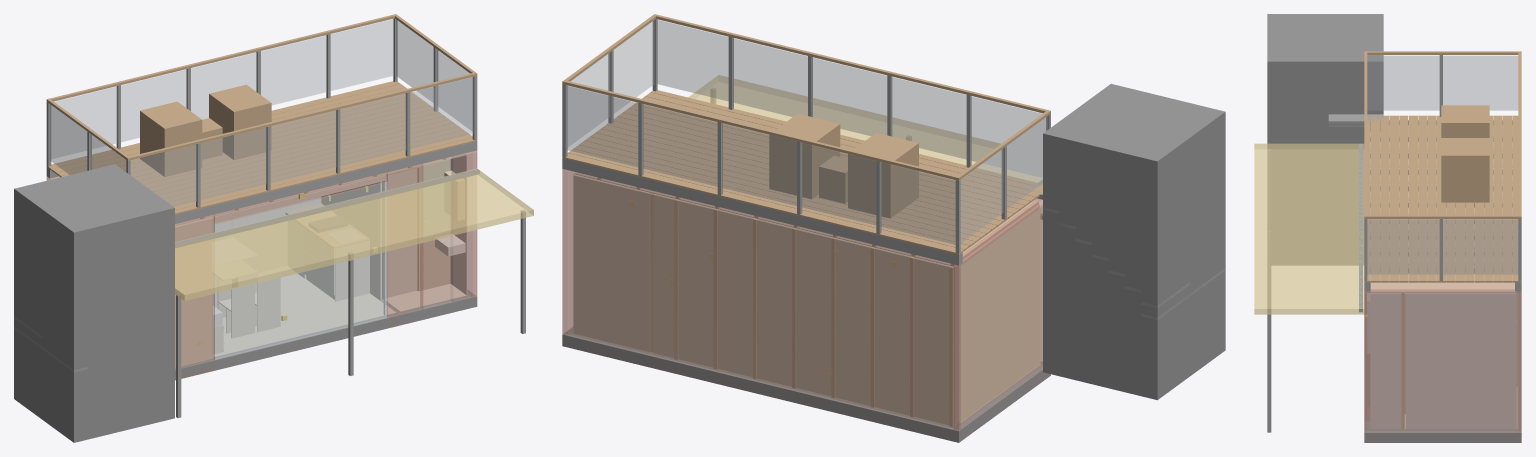
Rendered from studio.glb.
3 renders of one model, left to right at view 1: azimuth 30°, elevation 25°; view 2: azimuth 150°, elevation 25°; view 3: azimuth 270°, elevation 25°, orthographic. The views are drawn at different scales.
Parts seen in each view (by area): view 1: K11-73, K0-SLIDER, K11-56, K11-45, K11-37, K1-SPC, K1-08, K0-FLOOR, K11-51, K11-74, K2-DOOR, K11-75 (+45 smaller); view 2: K0-BACK, K1-EPS-back, K11-73, K11-37, K11-45, K0-ENDA, K1-EPS-end-A, K2-CB-BACK, K1-03, K1-01, K1-02, K1-04 (+39 smaller); view 3: K11-73, K0-ENDB, K11-56, K2-CB-ENDB, K11-51, K11-48, K2-CB-BASIN, K0-FLOOR, K11-75, K11-14, K11-15, K11-22 (+31 smaller).
Part boxes in pixels (x1=…): K11-73: x1=14, y1=164, x2=174, y2=442; K0-SLIDER: x1=214, y1=182, x2=387, y2=359; K11-56: x1=175, y1=168, x2=533, y2=300; K11-45: x1=131, y1=77, x2=473, y2=206; K11-37: x1=51, y1=19, x2=393, y2=158; K1-SPC: x1=213, y1=273, x2=395, y2=357; K1-08: x1=175, y1=217, x2=211, y2=366; K0-FLOOR: x1=175, y1=289, x2=477, y2=380; K11-51: x1=396, y1=19, x2=472, y2=130; K11-74: x1=140, y1=101, x2=202, y2=176; K2-DOOR: x1=385, y1=169, x2=416, y2=297; K11-75: x1=209, y1=84, x2=271, y2=159; K0-BACK: x1=562, y1=169, x2=960, y2=430; K1-EPS-back: x1=573, y1=175, x2=951, y2=425; K11-73: x1=1043, y1=84, x2=1225, y2=400; K11-37: x1=567, y1=86, x2=955, y2=244; K11-45: x1=657, y1=20, x2=1045, y2=177; K0-ENDA: x1=954, y1=200, x2=1042, y2=430; K1-EPS-end-A: x1=960, y1=207, x2=1041, y2=422; K2-CB-BACK: x1=574, y1=174, x2=649, y2=351; K1-03: x1=729, y1=212, x2=803, y2=389; K1-01: x1=879, y1=249, x2=952, y2=424; K1-02: x1=804, y1=230, x2=878, y2=407; K1-04: x1=654, y1=194, x2=728, y2=370; K11-73: x1=1267, y1=14, x2=1383, y2=265; K0-ENDB: x1=1364, y1=289, x2=1521, y2=441; K11-56: x1=1254, y1=143, x2=1364, y2=314; K2-CB-ENDB: x1=1405, y1=293, x2=1515, y2=429; K11-51: x1=1367, y1=219, x2=1517, y2=274; K11-48: x1=1367, y1=56, x2=1517, y2=110; K2-CB-BASIN: x1=1370, y1=293, x2=1401, y2=429; K0-FLOOR: x1=1364, y1=291, x2=1521, y2=442; K11-75: x1=1441, y1=138, x2=1489, y2=202; K11-14: x1=1503, y1=115, x2=1512, y2=282; K11-15: x1=1493, y1=115, x2=1502, y2=282; K11-22: x1=1427, y1=115, x2=1436, y2=282.
Bounding box in the file's own units: 7.86 × 3.87 × 4.14.
